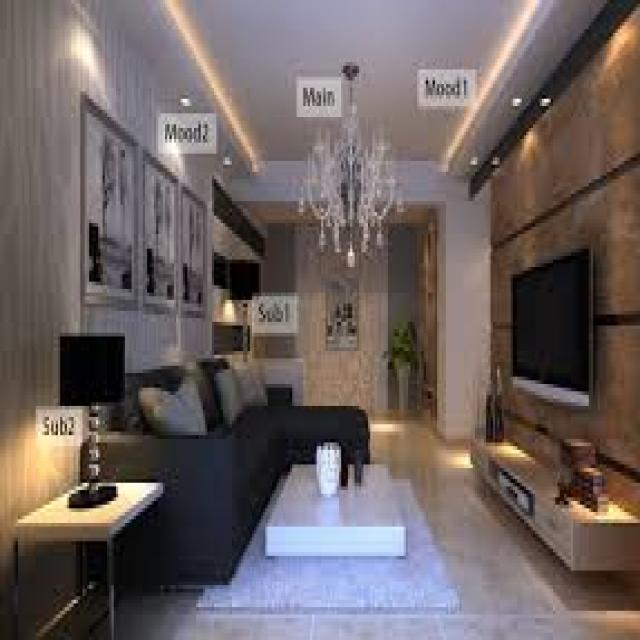Sofa: (94, 346, 372, 584)
Table: (11, 472, 165, 640), (265, 455, 409, 563)
tv: (508, 240, 601, 418)
